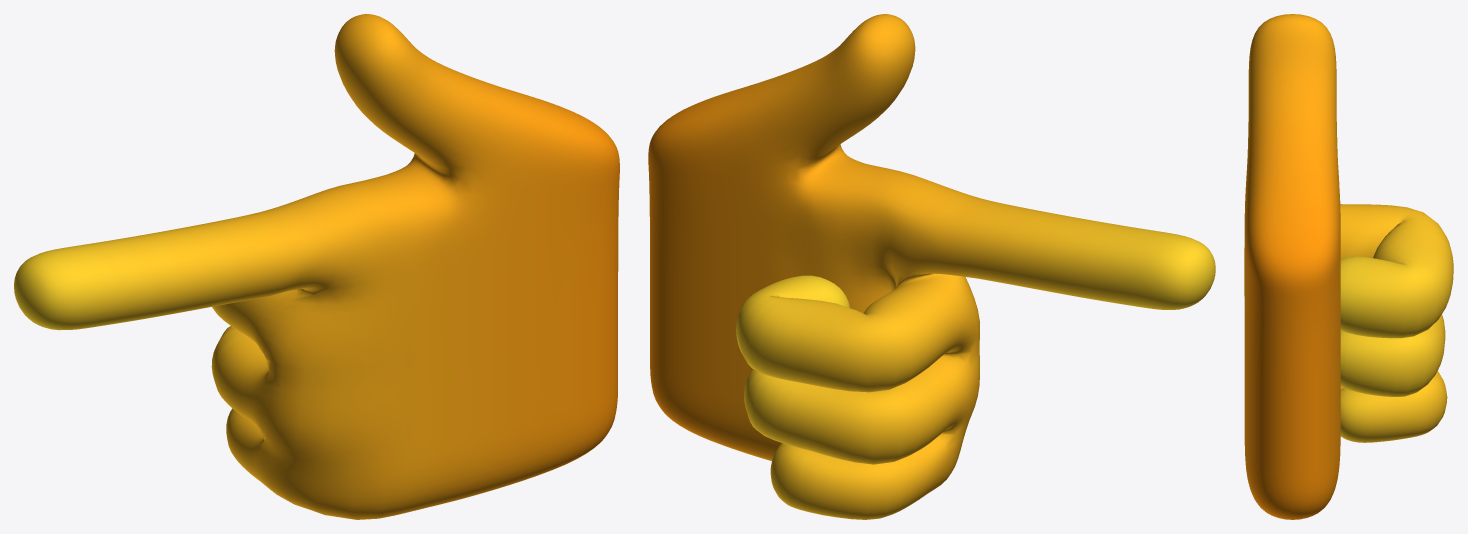
Rendered from backhand_index_pointing_left.gltf.
3 renders of one model, left to right at view 1: azimuth 30°, elevation 25°; view 2: azimuth 150°, elevation 25°; view 3: azimuth 270°, elevation 25°, orthographic. The views are drawn at different scales.
Visible parts, largest first — view 1: Cube.093; view 2: Cube.093; view 3: Cube.093.
Boxes of the visible parts, bbox=[...] form: Cube.093: bbox=[14, 14, 619, 519]; Cube.093: bbox=[648, 14, 1215, 519]; Cube.093: bbox=[1244, 14, 1453, 519].
Size of the model in its own units: 1.78 by 1.42 by 0.6242.
1 material, 1 textured.
